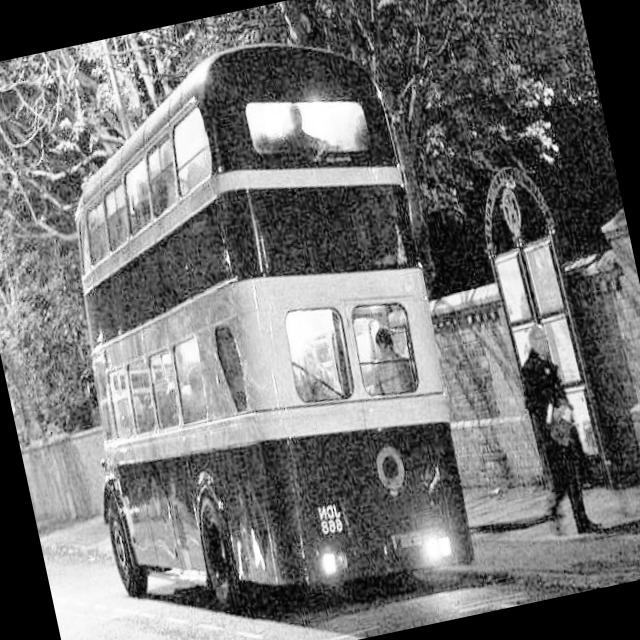Bus: (0, 11, 508, 640)
Person: (494, 296, 605, 544)
